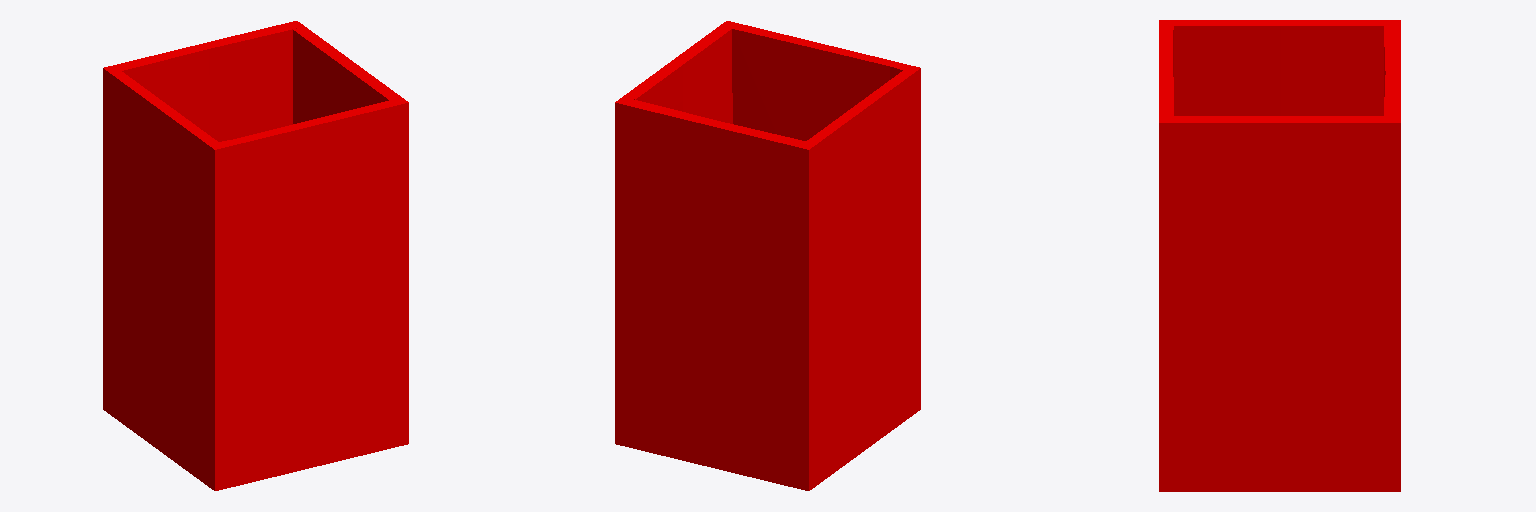
The robot description file, URDF, robot "bottle":
<?xml version="1.0"?>
<robot name="bottle">

  <link name="base_link">
    <visual>
      <geometry>
        <mesh filename="package://asset/5face-bottle-vhacd.obj" scale="1 1 1"/>
      </geometry>
      <material name="color">
        <color rgba="1 0 0 0.5"/> <!-- Red. a: transparency. -->
      </material>
    </visual>
    <collision>
      <geometry>
        <mesh filename="package://asset/5face-bottle-vhacd.obj" scale="1 1 1"/>
      </geometry>
    </collision>
    <inertial>
      <mass value="10"/> 
      <origin xyz="0 0 0"/> 
      <inertia ixx="1" iyy="1" izz="1"/> 
    </inertial>

  </link>

</robot>

--- Facts derived from the render (not from the file) ---
The picture shows the robot from 3 angles, left to right: view 1: azimuth 30°, elevation 25°; view 2: azimuth 150°, elevation 25°; view 3: azimuth 270°, elevation 25°; orthographic projection.
Robot: bottle — 1 links, 0 joints (none); root link base_link; default pose: all joints at 0.
Visible links, largest first — view 1: base_link; view 2: base_link; view 3: base_link.
Boxes of the visible links, bbox=[...] form: base_link: bbox=[103, 21, 408, 490]; base_link: bbox=[615, 21, 920, 490]; base_link: bbox=[1159, 20, 1400, 491].
Size in the robot's own frame: 0.8281 by 0.8281 by 1.39 metres.
1 mesh visuals loaded from 1 distinct referenced files (1 OBJ).